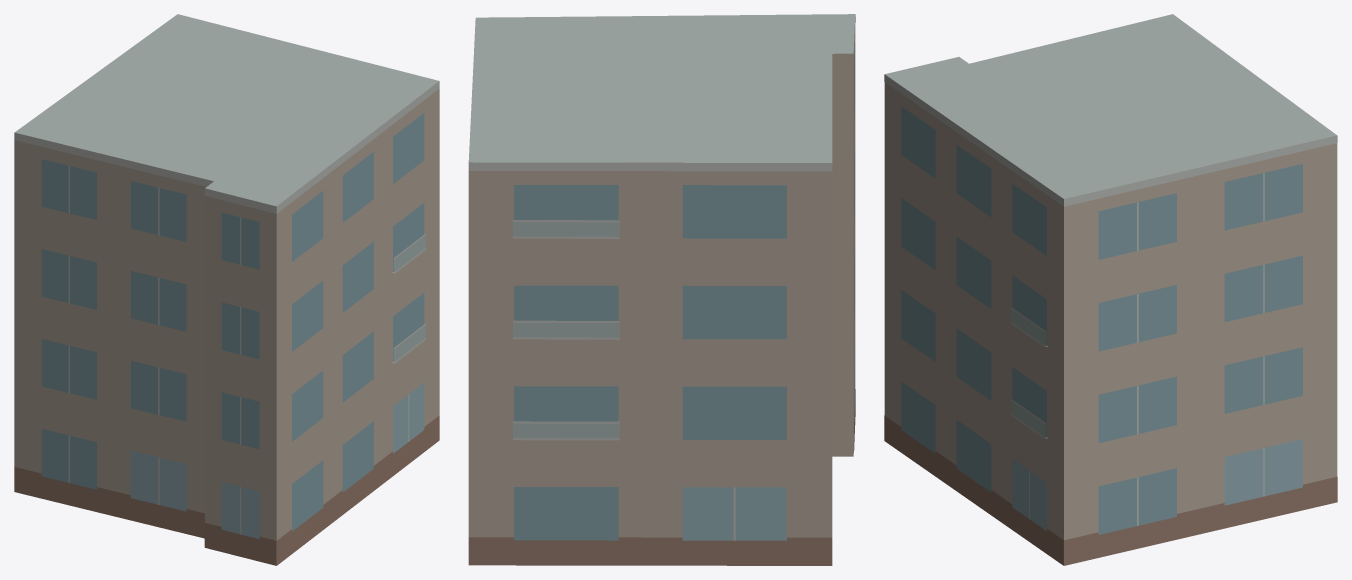
File: survey-upis-32969606.glb
3 renders of one model, left to right at view 1: azimuth 30°, elevation 25°; view 2: azimuth 150°, elevation 25°; view 3: azimuth 270°, elevation 25°, orthographic. The views are drawn at different scales.
Parts seen in each view (by area): view 1: survey-upis-32969606.tmp; view 2: survey-upis-32969606.tmp; view 3: survey-upis-32969606.tmp.
Part boxes in pixels (x1,y1,x2,y2): survey-upis-32969606.tmp: (14, 14, 439, 565); survey-upis-32969606.tmp: (468, 14, 855, 565); survey-upis-32969606.tmp: (884, 14, 1337, 565).
Bounding box in the file's own units: 12.67 × 11.7 × 13.1.
